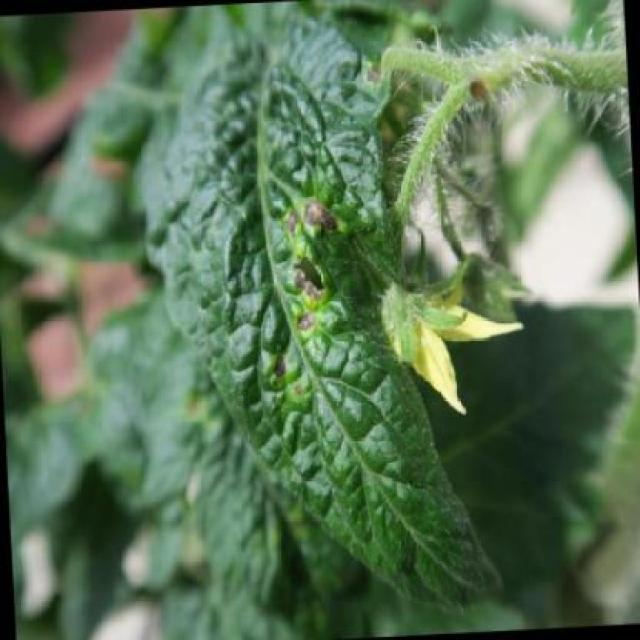Tomato leaf bacterial spot: (157, 136, 412, 427)
